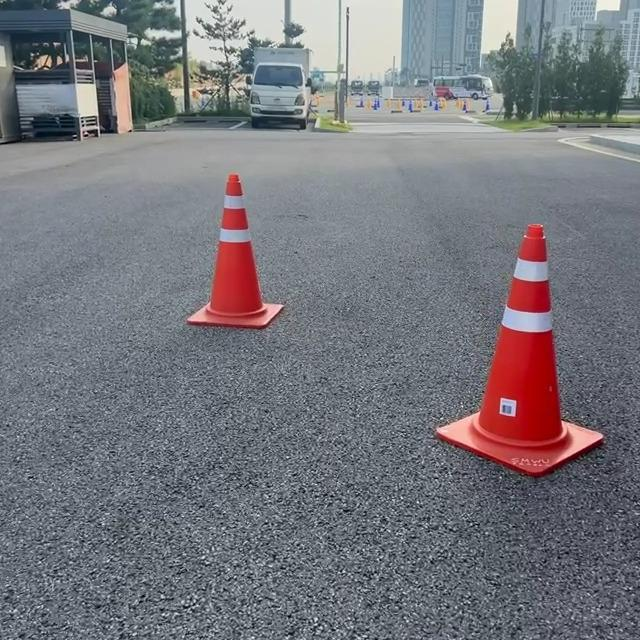fallen_object: (386, 170, 602, 550), (169, 110, 314, 399)
